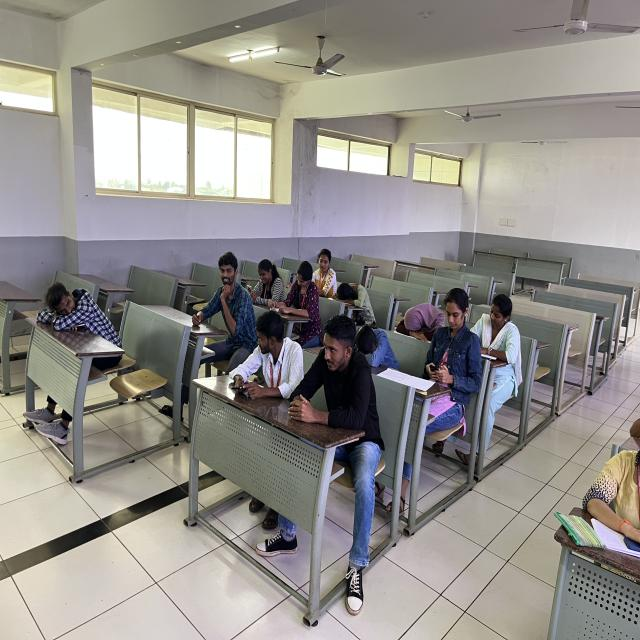Sleeping: (32, 275, 126, 361), (344, 310, 407, 373), (392, 294, 451, 344), (328, 276, 382, 320)
Using Phone: (421, 284, 485, 390), (243, 254, 289, 310)
Writing: (188, 250, 262, 342), (473, 288, 525, 368), (269, 255, 325, 320)
